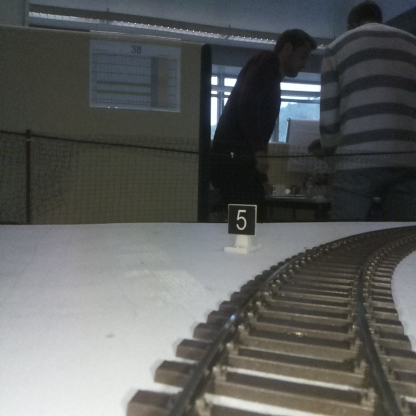black-stop-5: (228, 206, 255, 251)
